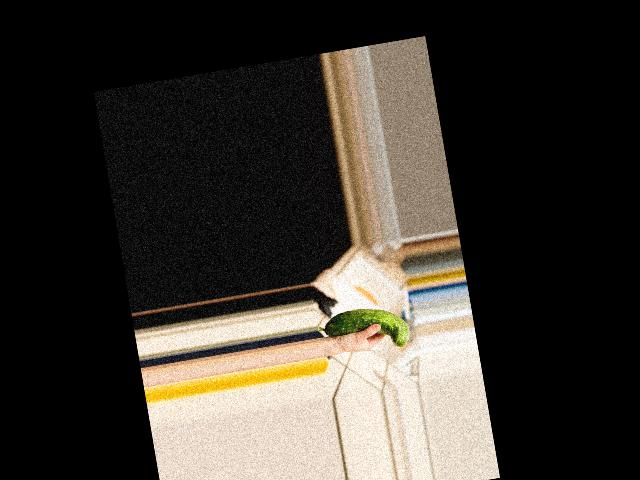cucumber: (316, 300, 411, 359)
